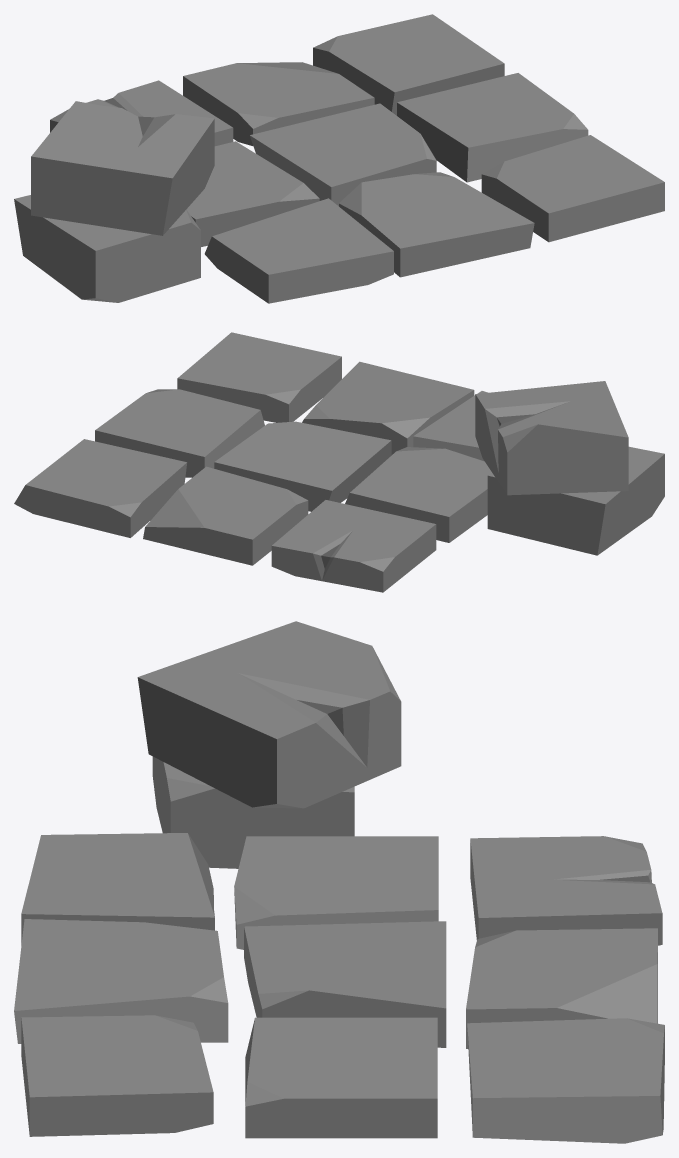
The model's file is road.glb.
3 views of the same model, one above another, from view 1: azimuth 30°, elevation 25°; view 2: azimuth 150°, elevation 25°; view 3: azimuth 270°, elevation 25° (orthographic). The views are drawn at different scales.
Visible parts, largest first — view 1: Cube.010, Cube.003, Cube.006, Cube.002, Cube.001, Cube.009, Cube.004, Cube, Cube.005, Cube.007, Cube.008; view 2: Cube.010, Cube, Cube.008, Cube.005, Cube.009, Cube.002, Cube.004, Cube.007, Cube.001, Cube.003, Cube.006; view 3: Cube.010, Cube, Cube.001, Cube.002, Cube.003, Cube.004, Cube.007, Cube.008, Cube.005, Cube.006, Cube.009.
Part boxes in pixels (bbox=[...]): Cube.010: bbox=[31, 101, 214, 235]; Cube.003: bbox=[339, 172, 534, 277]; Cube.006: bbox=[204, 198, 393, 303]; Cube.002: bbox=[481, 135, 664, 242]; Cube.001: bbox=[397, 73, 588, 182]; Cube.009: bbox=[14, 195, 200, 302]; Cube.004: bbox=[250, 103, 436, 206]; Cube: bbox=[313, 14, 504, 115]; Cube.005: bbox=[183, 62, 374, 145]; Cube.007: bbox=[186, 141, 319, 246]; Cube.008: bbox=[50, 80, 233, 146]; Cube.010: bbox=[475, 381, 628, 495]; Cube: bbox=[14, 439, 187, 537]; Cube.008: bbox=[271, 500, 436, 592]; Cube.005: bbox=[143, 466, 308, 565]; Cube.009: bbox=[487, 446, 664, 555]; Cube.002: bbox=[177, 332, 341, 422]; Cube.004: bbox=[214, 421, 391, 511]; Cube.007: bbox=[345, 447, 491, 542]; Cube.001: bbox=[95, 389, 264, 477]; Cube.003: bbox=[302, 361, 474, 454]; Cube.006: bbox=[413, 391, 487, 461]; Cube.010: bbox=[137, 621, 401, 808]; Cube: bbox=[467, 1018, 664, 1143]; Cube.001: bbox=[245, 1017, 437, 1138]; Cube.002: bbox=[21, 1015, 213, 1136]; Cube.003: bbox=[14, 919, 228, 1043]; Cube.004: bbox=[244, 921, 446, 1047]; Cube.007: bbox=[234, 836, 438, 949]; Cube.008: bbox=[470, 836, 662, 945]; Cube.005: bbox=[466, 928, 657, 1048]; Cube.006: bbox=[21, 833, 214, 945]; Cube.009: bbox=[152, 756, 354, 868].
Size of the model in its own units: 2.14 by 0.5071 by 1.61.
Materials: 1 (1 with a texture image).
